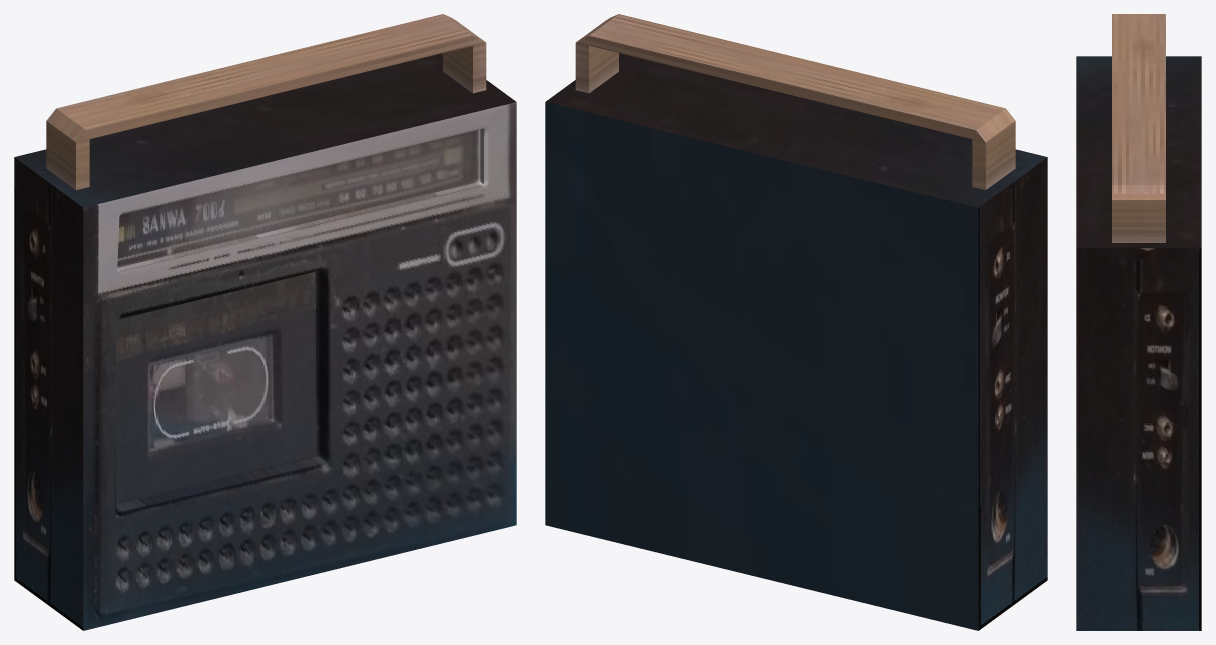
File: radio.glb
The picture shows the model from 3 angles, left to right: view 1: azimuth 30°, elevation 25°; view 2: azimuth 150°, elevation 25°; view 3: azimuth 270°, elevation 25°; orthographic projection. The views are drawn at different scales.
Parts seen in each view (by area): view 1: Cube; view 2: Cube; view 3: Cube.
Boxes of the visible parts, x1,y1,x2,y2 form: Cube: [14, 14, 516, 630]; Cube: [545, 14, 1047, 630]; Cube: [1076, 14, 1201, 630].
Bounding box in the file's own units: 2.14 × 2.27 × 0.5922.
Materials: 1 (1 with a texture image).
